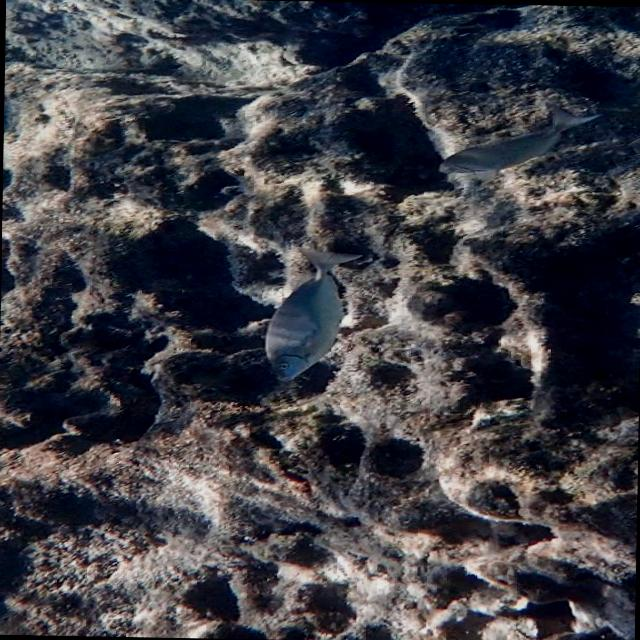Sokar Baligi: (252, 242, 372, 388), (428, 96, 604, 180)
